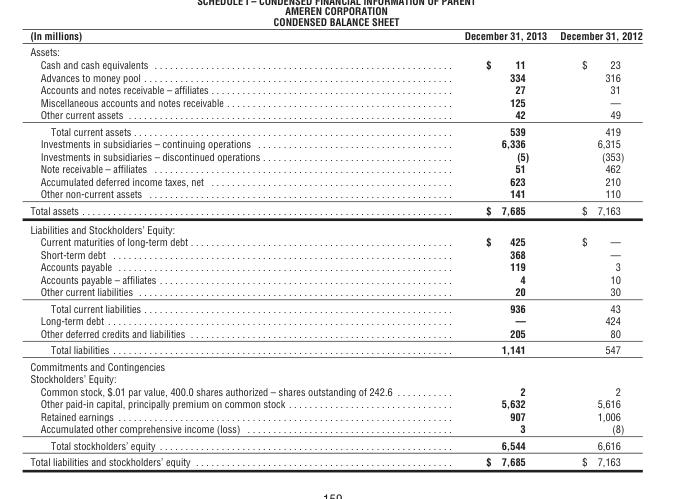table: (29, 28, 641, 467)
table column: (29, 28, 427, 467), (427, 28, 552, 467), (552, 28, 641, 467)
table column header: (29, 28, 641, 43)
table projected row header: (29, 219, 641, 235), (29, 43, 641, 57), (29, 357, 641, 371), (29, 371, 641, 384)
table row: (29, 201, 641, 219), (29, 219, 641, 235), (29, 341, 641, 357), (29, 436, 641, 452), (29, 28, 641, 43), (29, 299, 641, 314), (29, 326, 641, 341), (29, 452, 641, 467), (29, 43, 641, 57), (29, 108, 641, 122), (29, 122, 641, 136), (29, 187, 641, 201), (29, 285, 641, 299), (29, 357, 641, 371), (29, 422, 641, 436), (29, 57, 641, 70), (29, 82, 641, 95), (29, 95, 641, 108), (29, 136, 641, 149), (29, 149, 641, 162), (29, 174, 641, 187), (29, 247, 641, 260), (29, 272, 641, 285), (29, 371, 641, 384), (29, 384, 641, 397), (29, 409, 641, 422), (29, 70, 641, 82), (29, 162, 641, 174), (29, 235, 641, 247), (29, 260, 641, 272), (29, 314, 641, 326), (29, 397, 641, 409)
